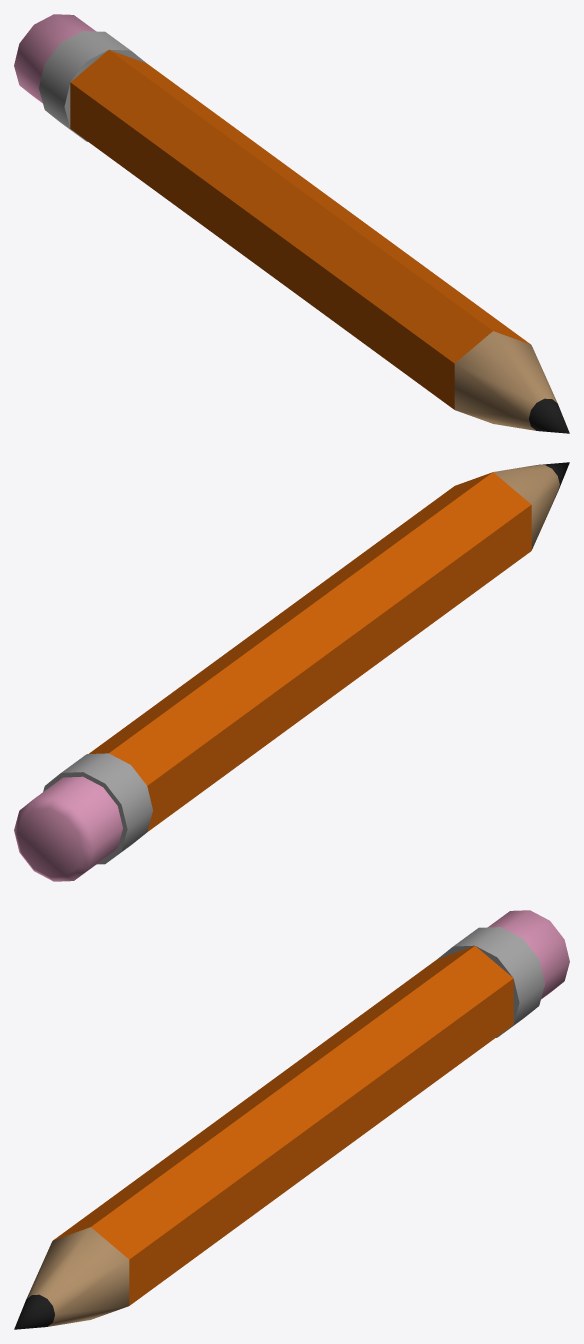
The model's file is pencil.dae.
The picture shows the model from 3 angles, top to bottom: view 1: azimuth 30°, elevation 25°; view 2: azimuth 150°, elevation 25°; view 3: azimuth 330°, elevation 25°; orthographic projection.
Parts seen in each view (by area): view 1: Cylinder; view 2: Cylinder; view 3: Cylinder.
Boxes of the visible parts, x1,y1,x2,y2 form: Cylinder: (14, 14, 569, 433); Cylinder: (14, 462, 569, 881); Cylinder: (14, 910, 569, 1329).
Bounding box in the file's own units: 0.2 × 2.03 × 0.2.
